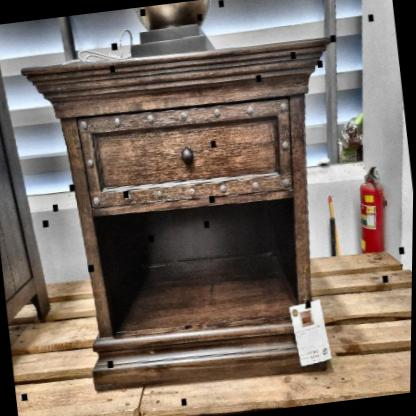Nightstand: (30, 29, 377, 404)
